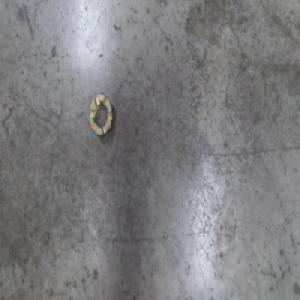Nut: (87, 91, 115, 140)
